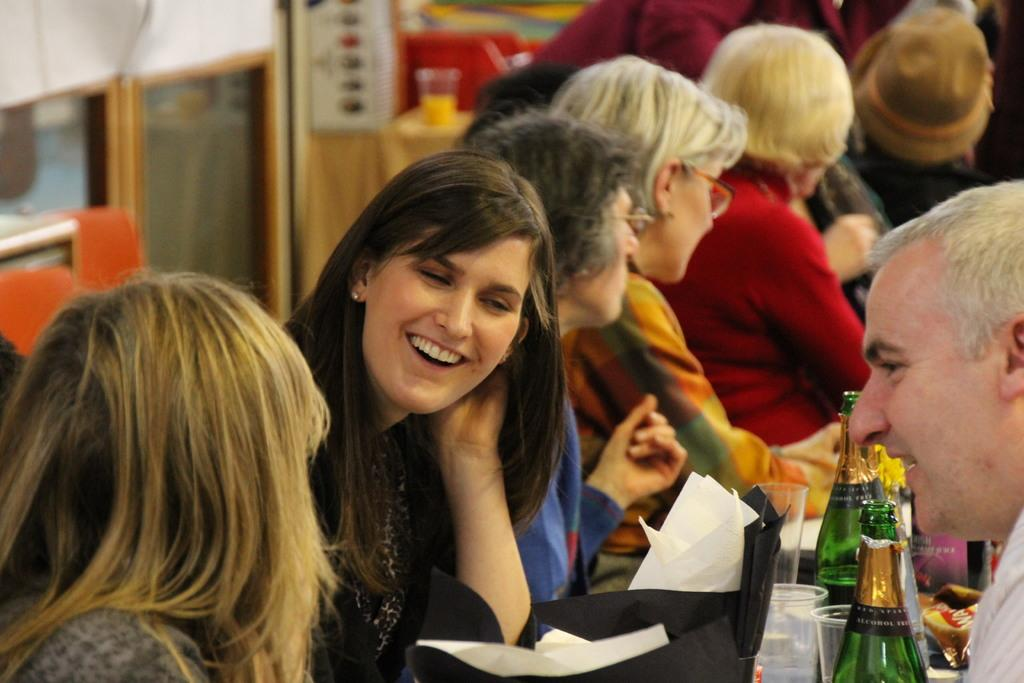Sem Máscara: (847, 266, 1007, 529), (363, 241, 531, 410), (574, 186, 648, 319), (667, 169, 733, 278)
